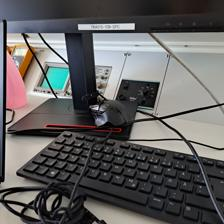mouse: (87, 98, 133, 129)
